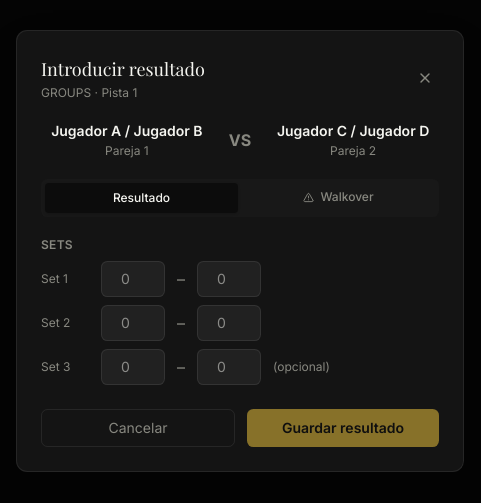
Scenario: ResultModal › muestra error de validación cuando el set tiene formato inválido (6-5)
The width and height of the screenshot is (481, 503).
In the 1st number field with placeholder "0": (133, 279) [101, 261, 165, 297], type "6"
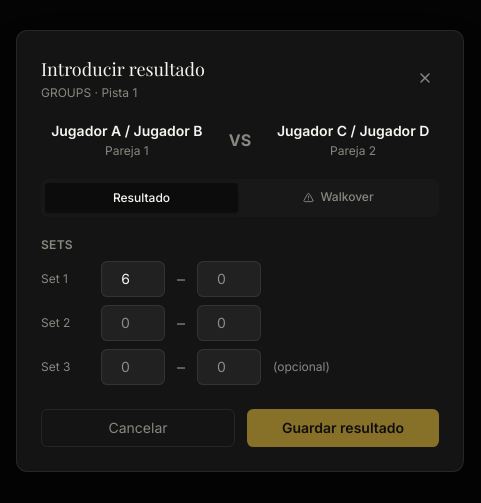
In the 1st number field with placeholder "0": (229, 279) [197, 261, 261, 297], type "5"
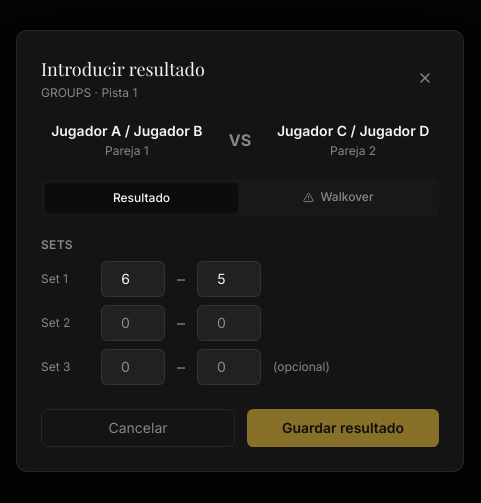
In the 1st number field with placeholder "0": (133, 323) [101, 305, 165, 341], type "6"
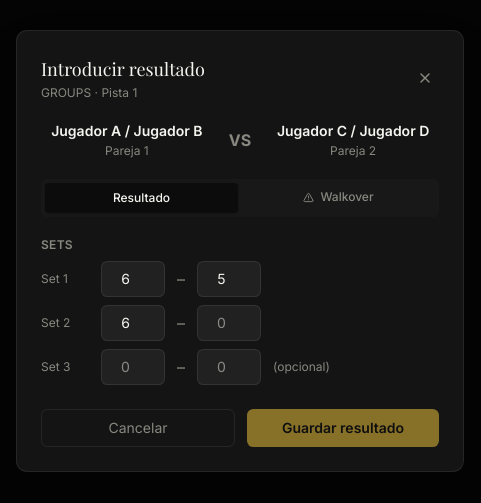
In the 1st number field with placeholder "0": (229, 323) [197, 305, 261, 341], type "3"
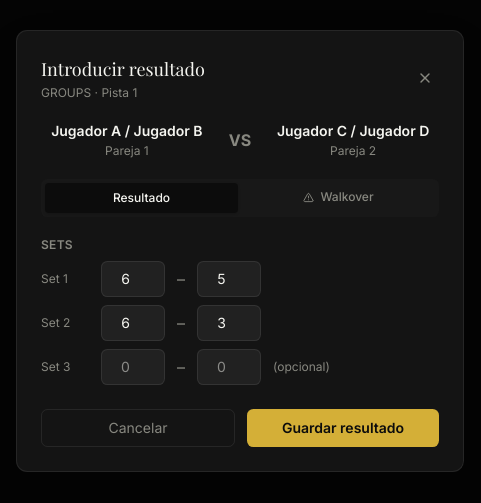
Click the button "Guardar resultado": (343, 428) [247, 409, 439, 447]
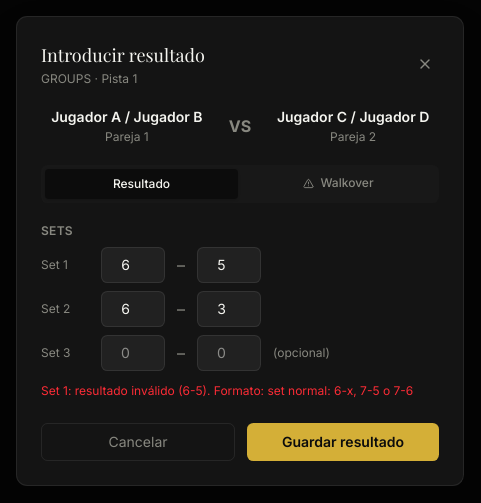
Check: the text "resultado inválido" is shown, box [41, 383, 413, 398]
